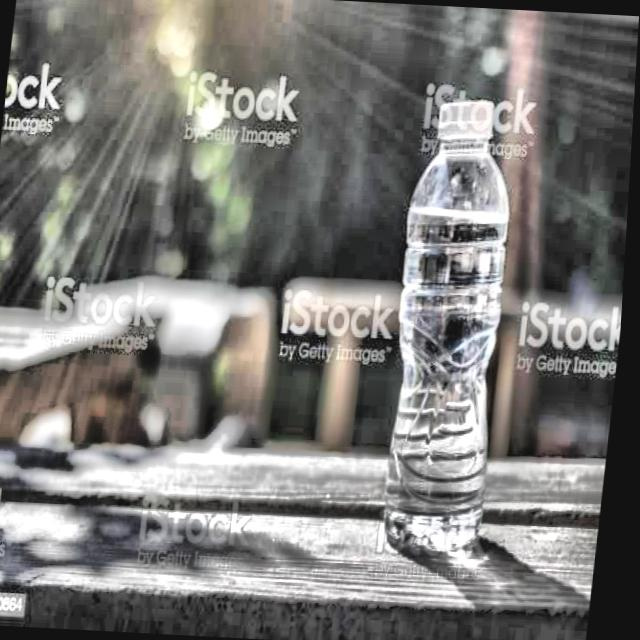Bottles: (361, 71, 548, 583)
